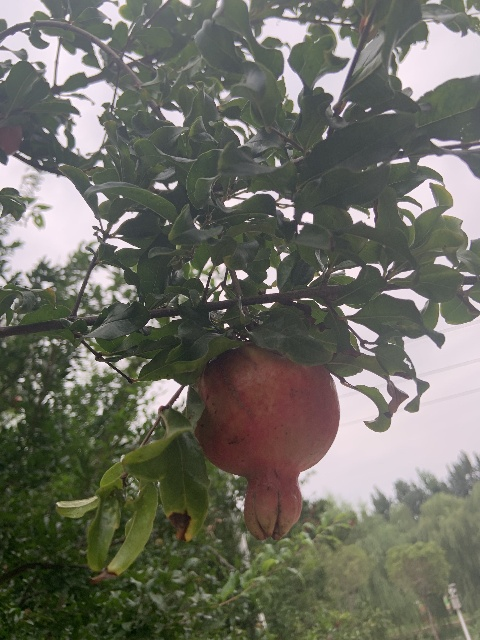ripe: (192, 344, 340, 540)
